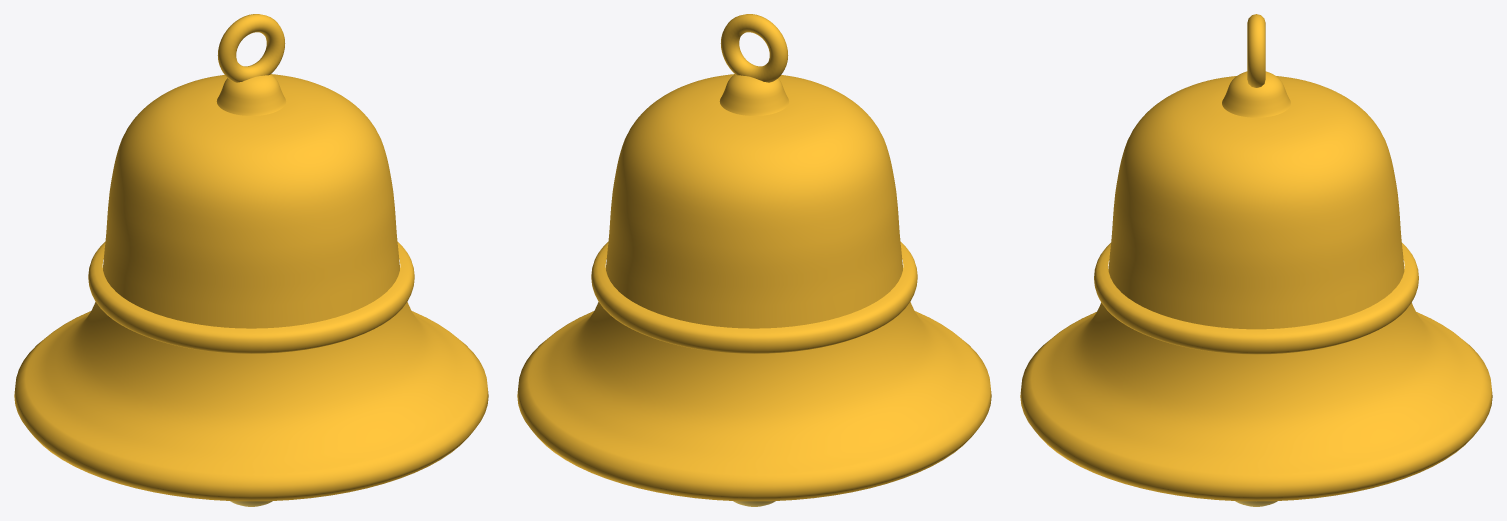
Rendered from bell.glb.
3 views of the same model, side by side, from view 1: azimuth 30°, elevation 25°; view 2: azimuth 150°, elevation 25°; view 3: azimuth 270°, elevation 25° (orthographic).
Parts seen in each view (by area): view 1: Bell; view 2: Bell; view 3: Bell.
Part boxes in pixels (left/top/right/bottom): Bell: left=14, top=14, right=488, bottom=506; Bell: left=517, top=14, right=991, bottom=506; Bell: left=1020, top=14, right=1492, bottom=506.
Size of the model in its own units: 0.924 by 1.05 by 0.924.
